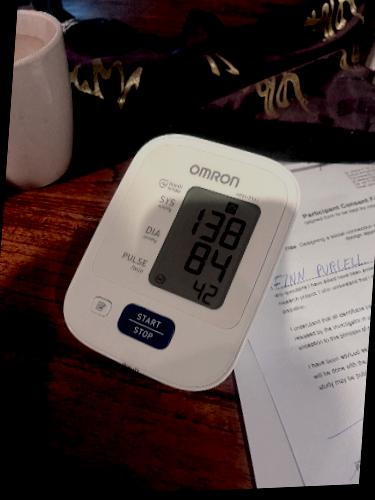bpm: (144, 177, 262, 312)
